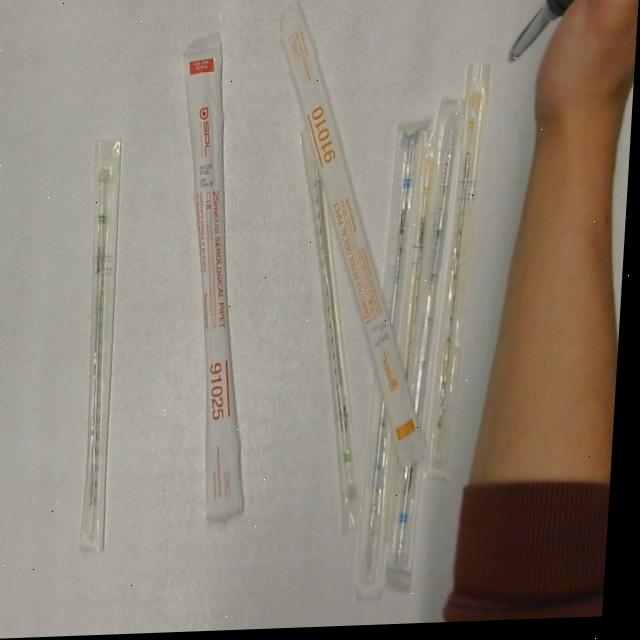Serelogical Pipet 1 mL: (427, 58, 496, 485)
Serelogical Pipet 10 mL: (255, 0, 456, 477)
Serelogical Pipet 2 mL: (281, 123, 391, 542), (76, 127, 132, 559)
Serelogical Pipet 25 mL: (159, 26, 277, 533)
Serelogical Pipet 5 mL: (358, 113, 436, 606), (392, 94, 469, 583)
Single Channel Pipettor: (506, 0, 607, 74)
